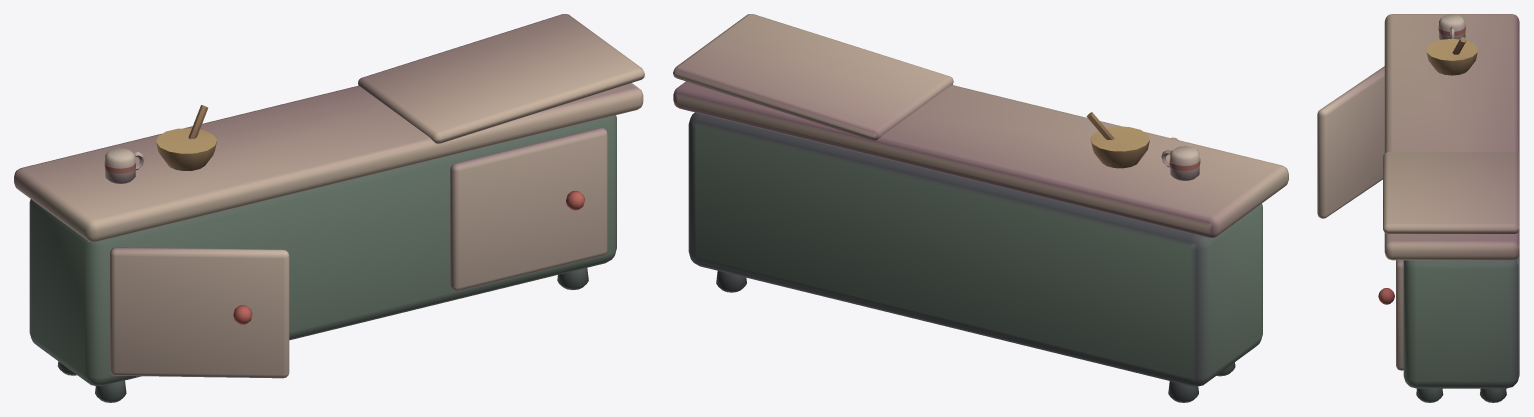
File: cabinet_broken.glb
The picture shows the model from 3 angles, left to right: view 1: azimuth 30°, elevation 25°; view 2: azimuth 150°, elevation 25°; view 3: azimuth 270°, elevation 25°; orthographic projection. The views are drawn at different scales.
Parts seen in each view (by area): view 1: cabinet_broken; view 2: cabinet_broken; view 3: cabinet_broken.
Part boxes in pixels (bbox=[...]): cabinet_broken: bbox=[14, 14, 644, 402]; cabinet_broken: bbox=[673, 14, 1288, 402]; cabinet_broken: bbox=[1317, 14, 1519, 402].
Bounding box in the file's own units: 2.94 × 1.27 × 1.08.
